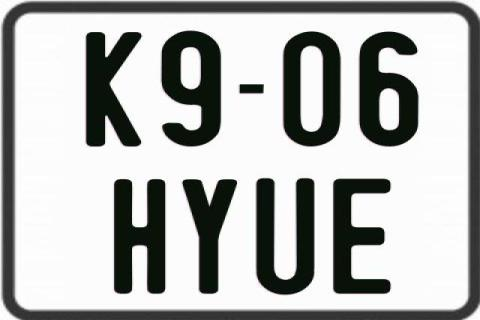0: (357, 31, 420, 148), (159, 29, 221, 145), (282, 30, 341, 146)
E: (333, 180, 394, 294)
H: (112, 179, 163, 297)
K: (84, 31, 145, 148)
U: (256, 177, 318, 295)
Y: (179, 180, 237, 298)
